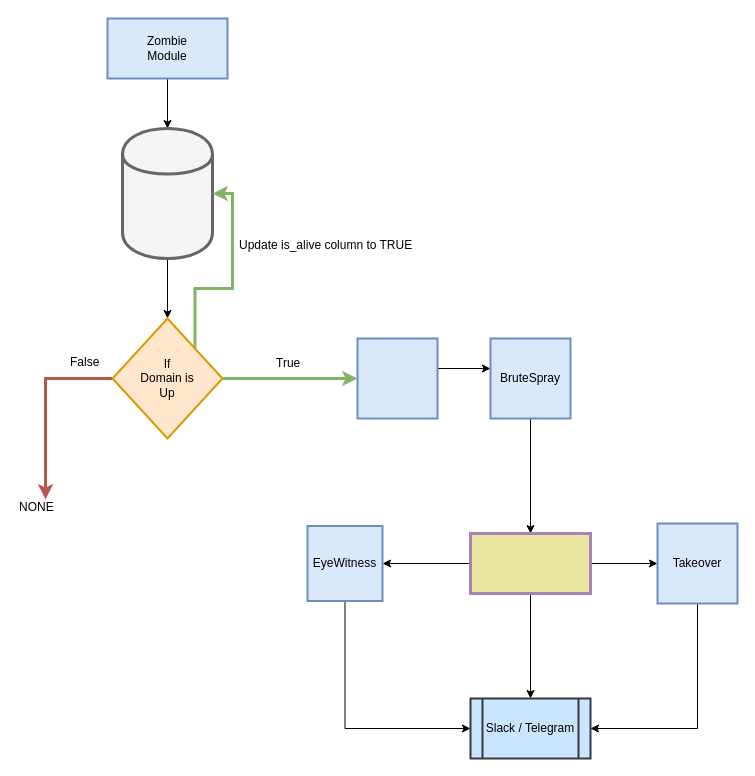
Some shapes in this 755 by 776 pixel diagram are drawn without their labels. The box of each missing label's shape, as (x1, y1, x2, y2) in pixels:
Domain Output DB: (120, 126, 214, 260)
Final Output: (468, 532, 592, 594)
Nmap: (356, 337, 438, 419)
